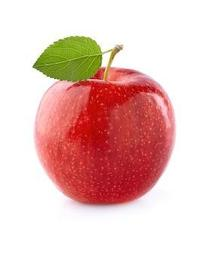apple: (32, 64, 175, 204)
